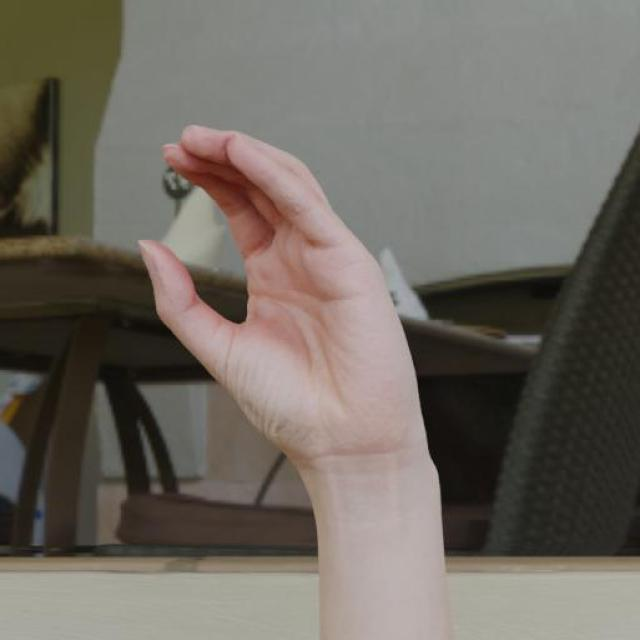C: (131, 119, 437, 462)
